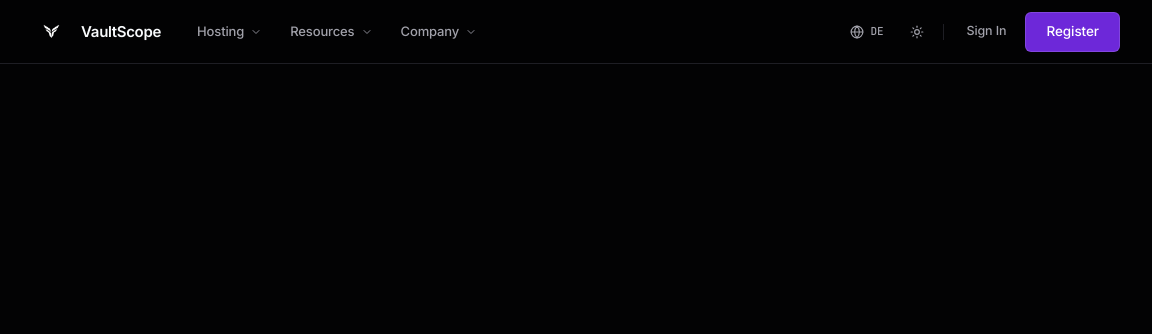
Test: Roadmap Page & Navigation › includes Roadmap in the Company dropdown menu
Click the button "Company" at point(439, 32), box [388,16,489,48]
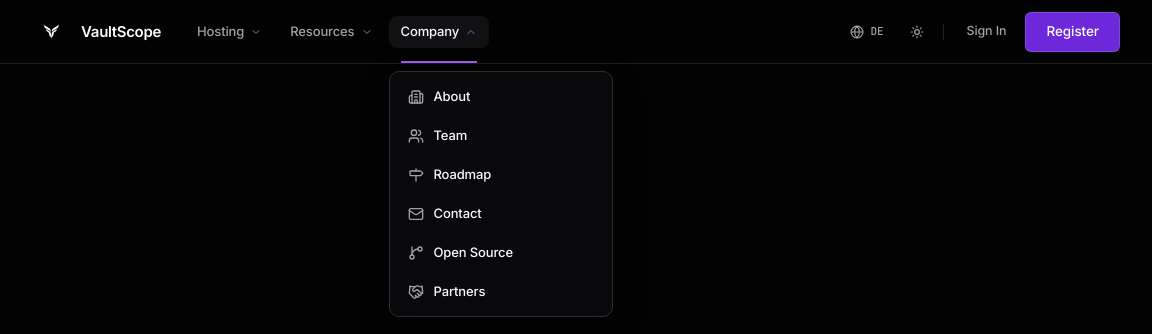
Expected: the menu item "Roadmap" is shown, [408,166,491,183]
